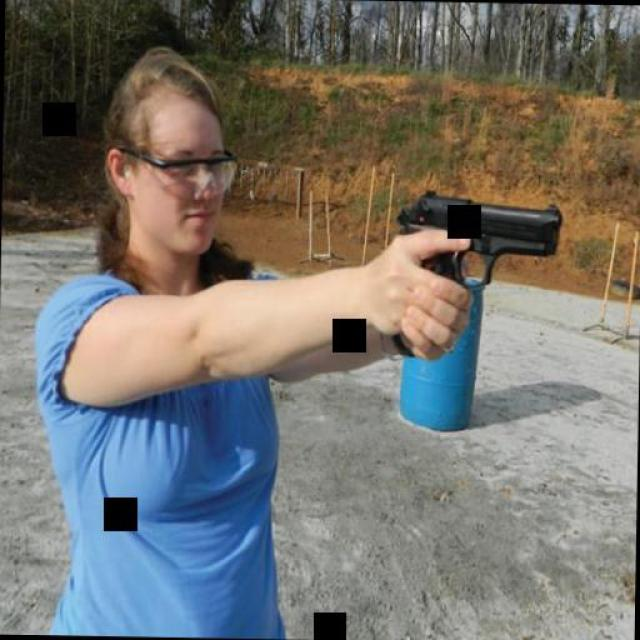gun: (395, 189, 563, 356)
